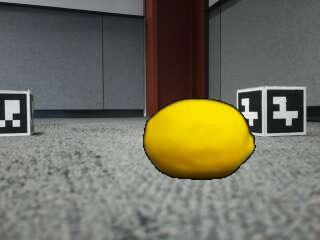lemon: (145, 100, 253, 179)
